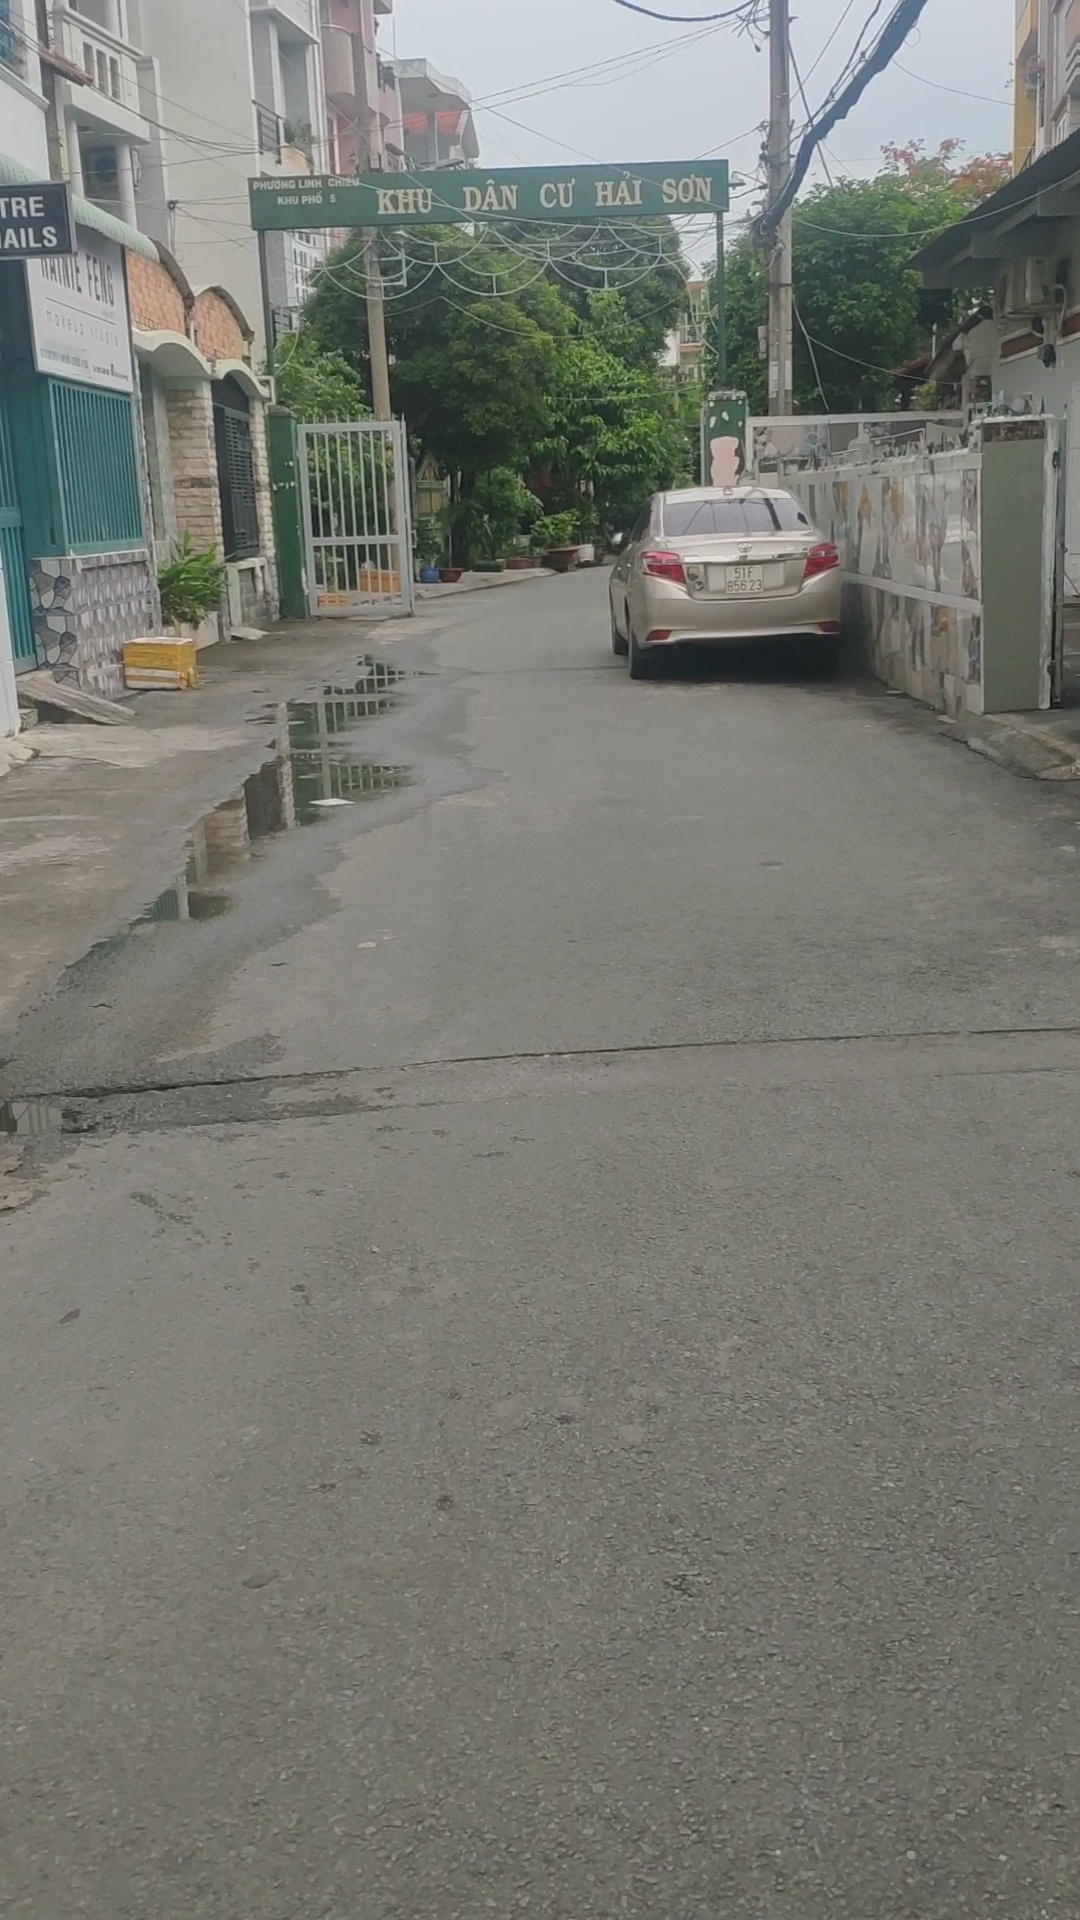hole: (1, 1077, 124, 1201)
